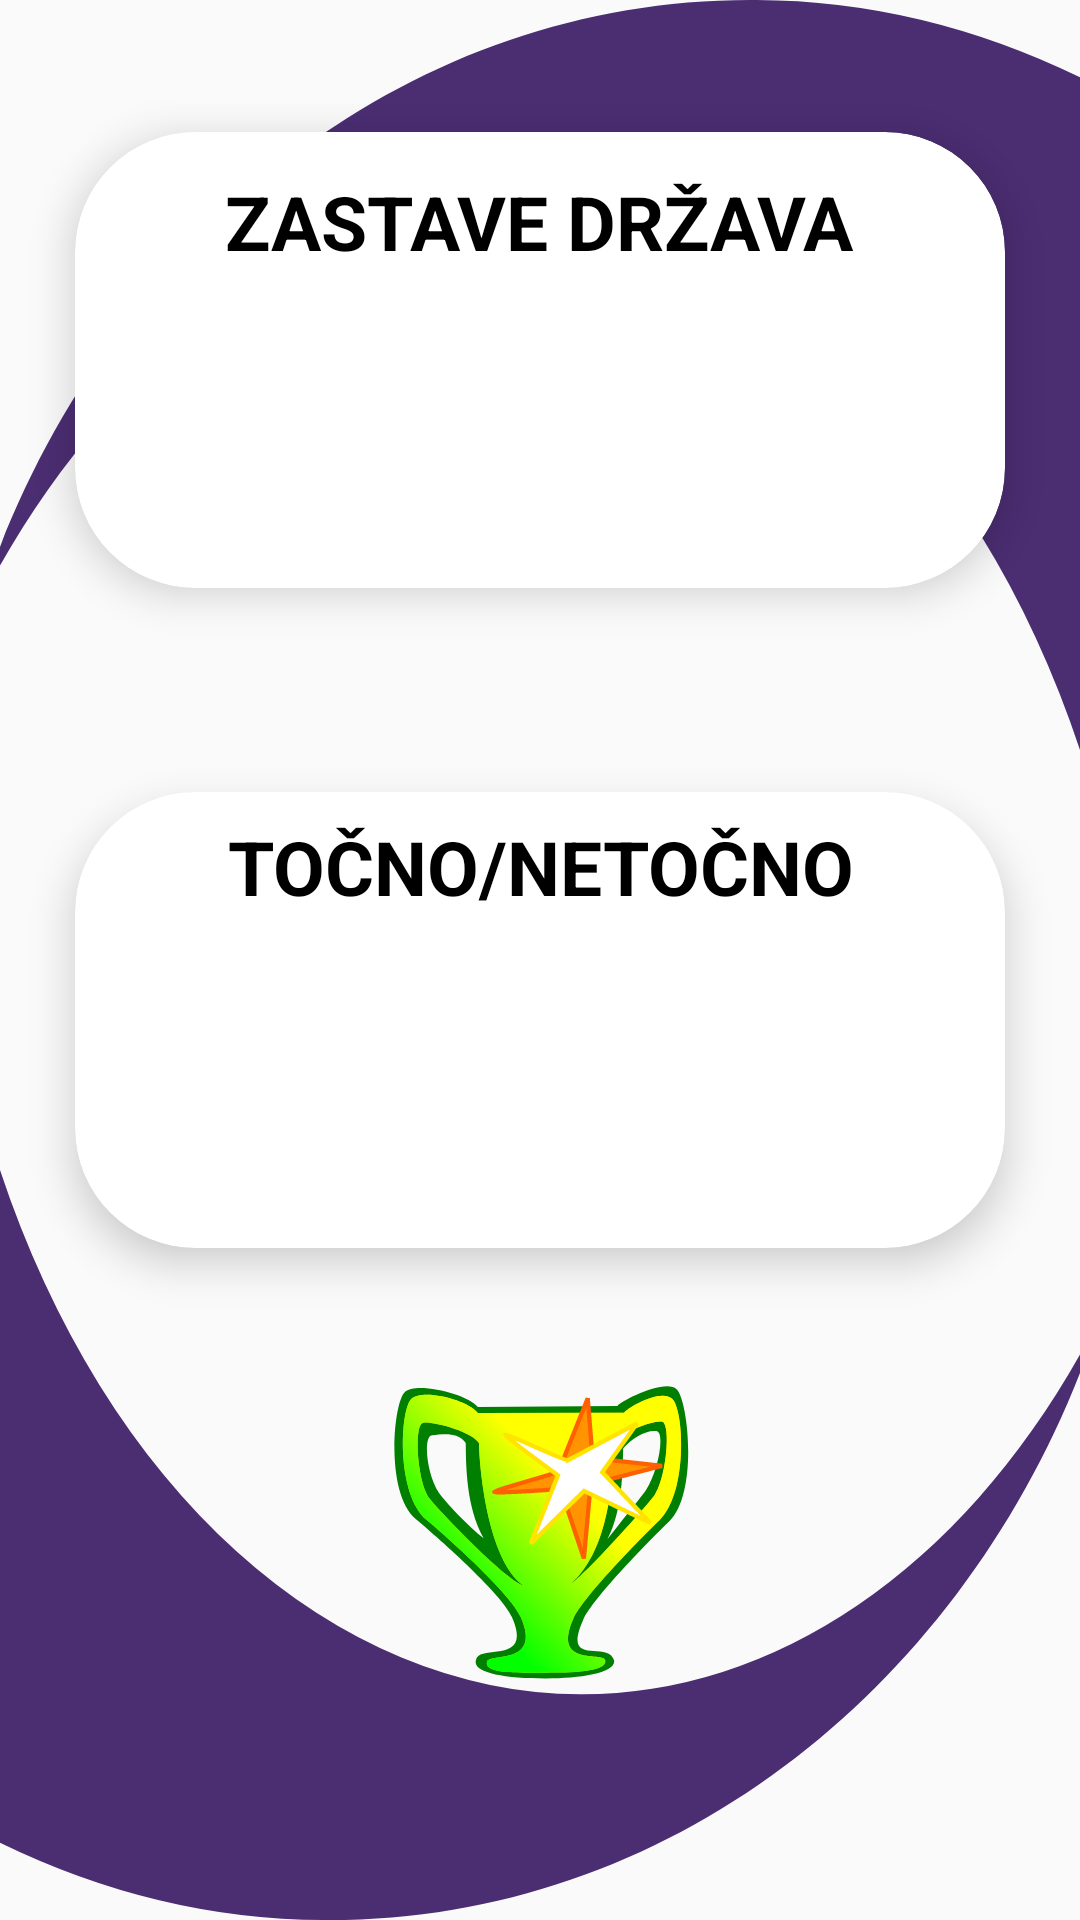

Where to tap for icons on this 1080px x 1920px app screen, as (x,y):
score trophy: (541,1532)
